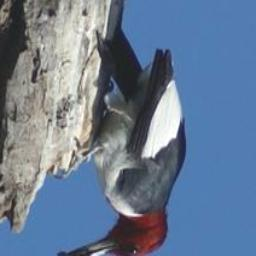Woodpecker: (58, 0, 187, 256)
